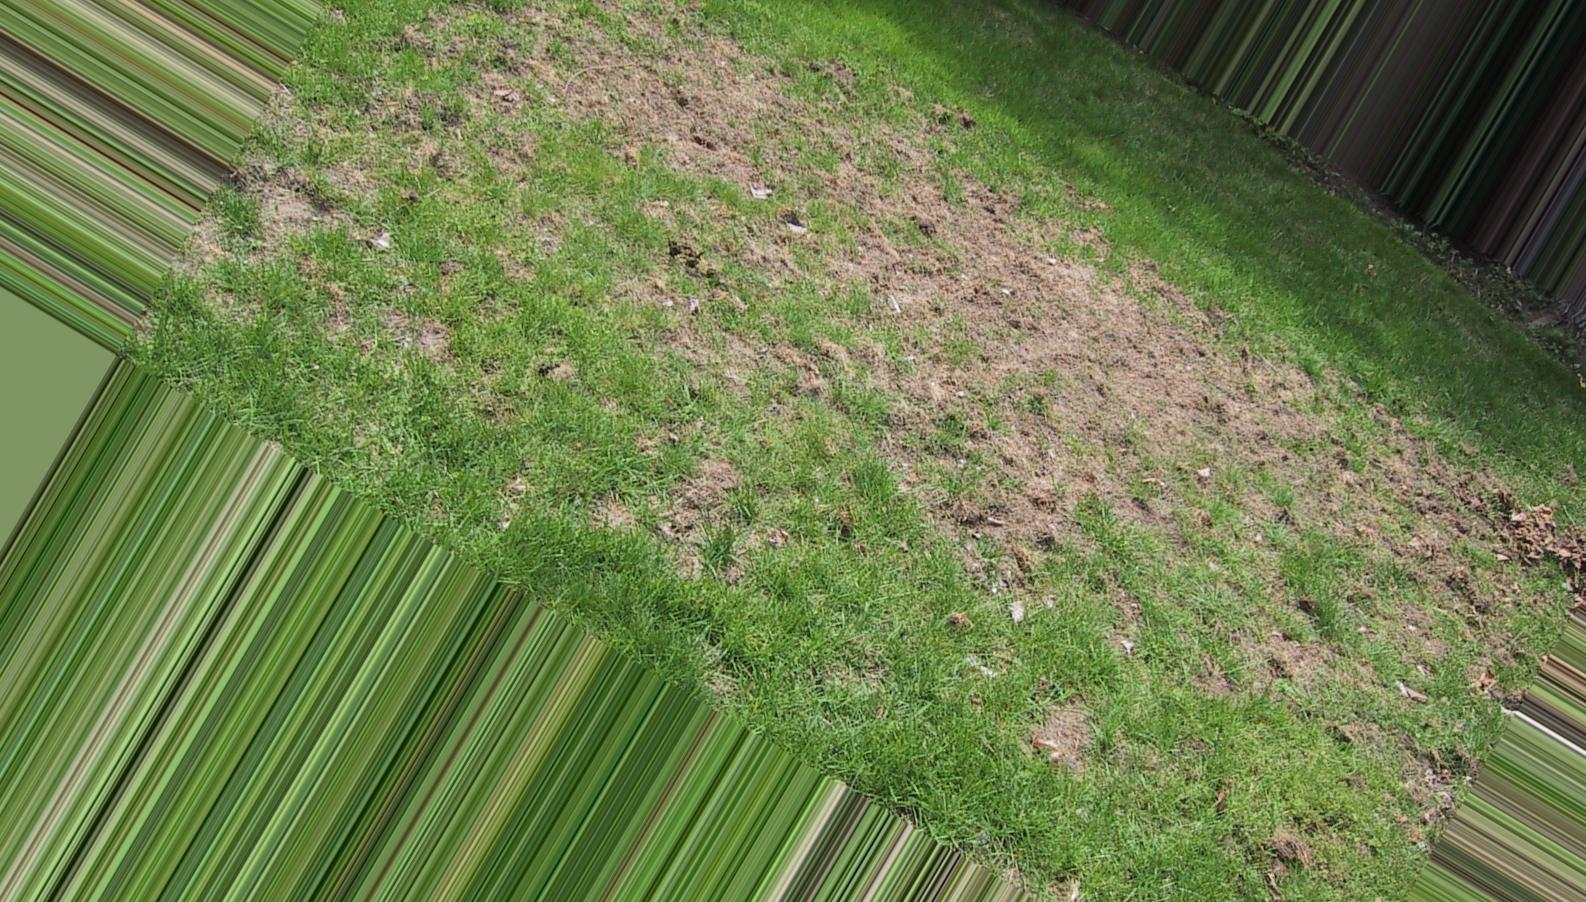patch: (803, 225, 1282, 605), (1213, 448, 1422, 775)
